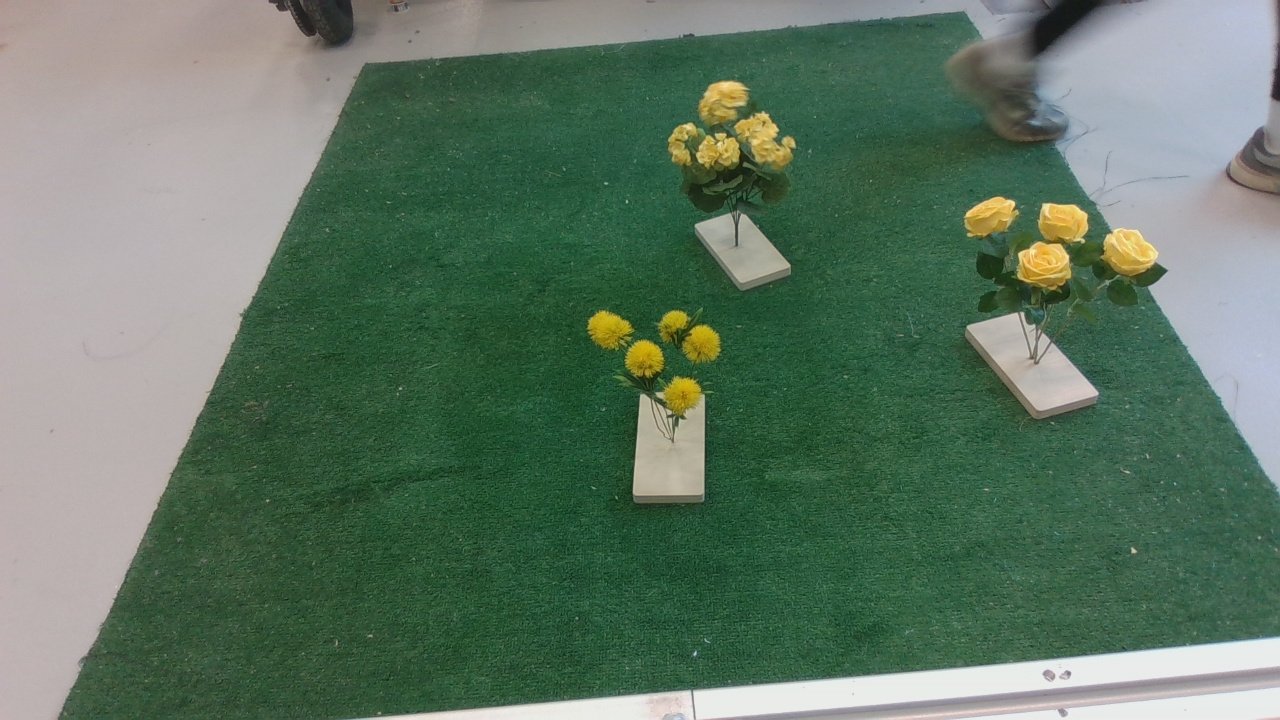dandelion: (578, 303, 735, 440)
geranium: (664, 73, 808, 222)
rose: (961, 188, 1177, 338)
